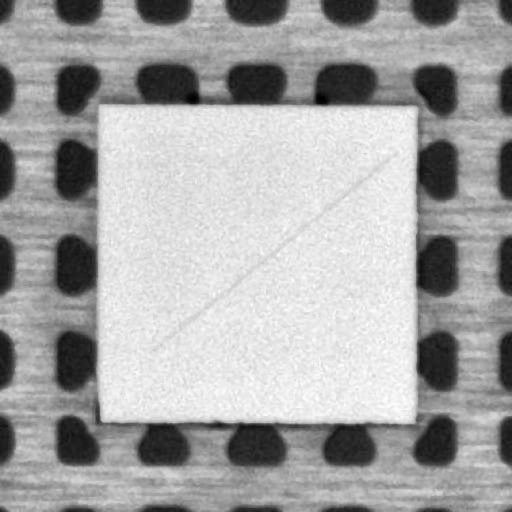DIE_CRACK: (148, 152, 394, 352)
